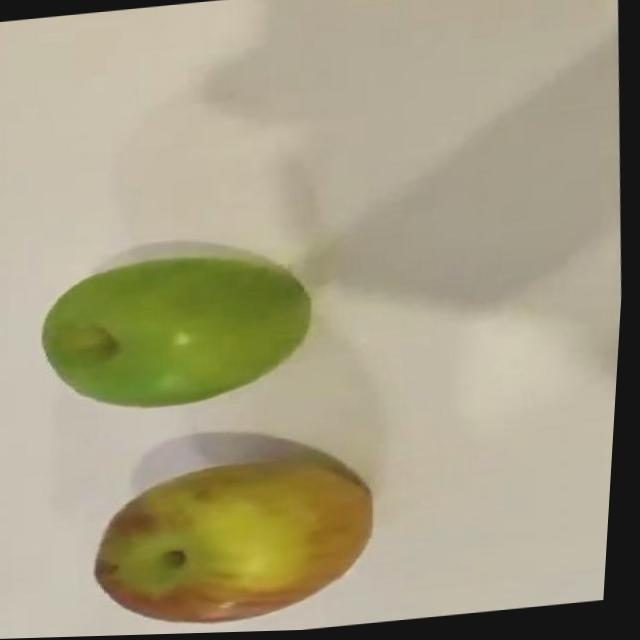Apple: (92, 449, 391, 635)
Orange: (36, 228, 326, 418)
